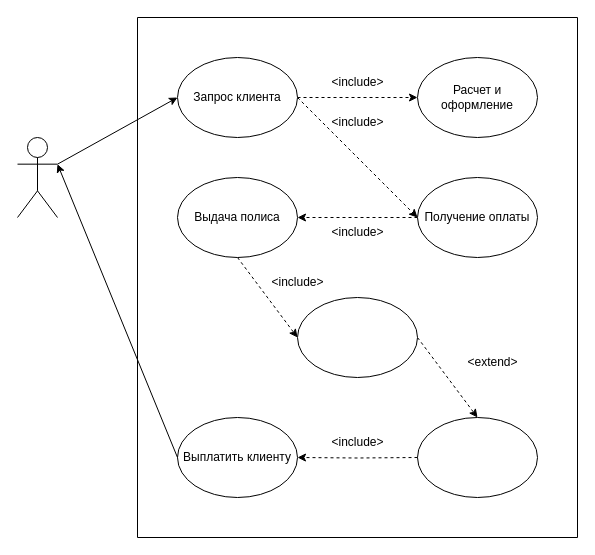
This 595x555 diagram has some shape labels left out. Here are the shapes that lost their labels. From the top down, the centre of each, then its label:
At [37,177]: "Клиент".
At [357,337]: "Обсуживание в течении срока".
At [477,457]: "Урегулировать убыток".
